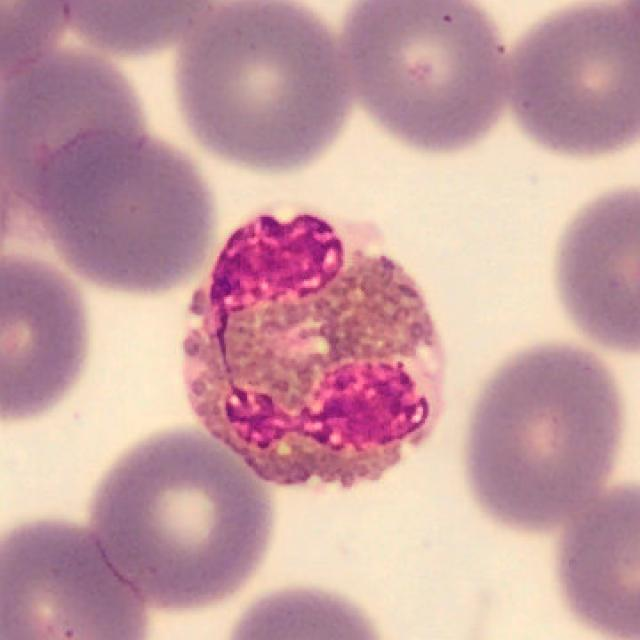Eosinofilo: (185, 208, 446, 489)
